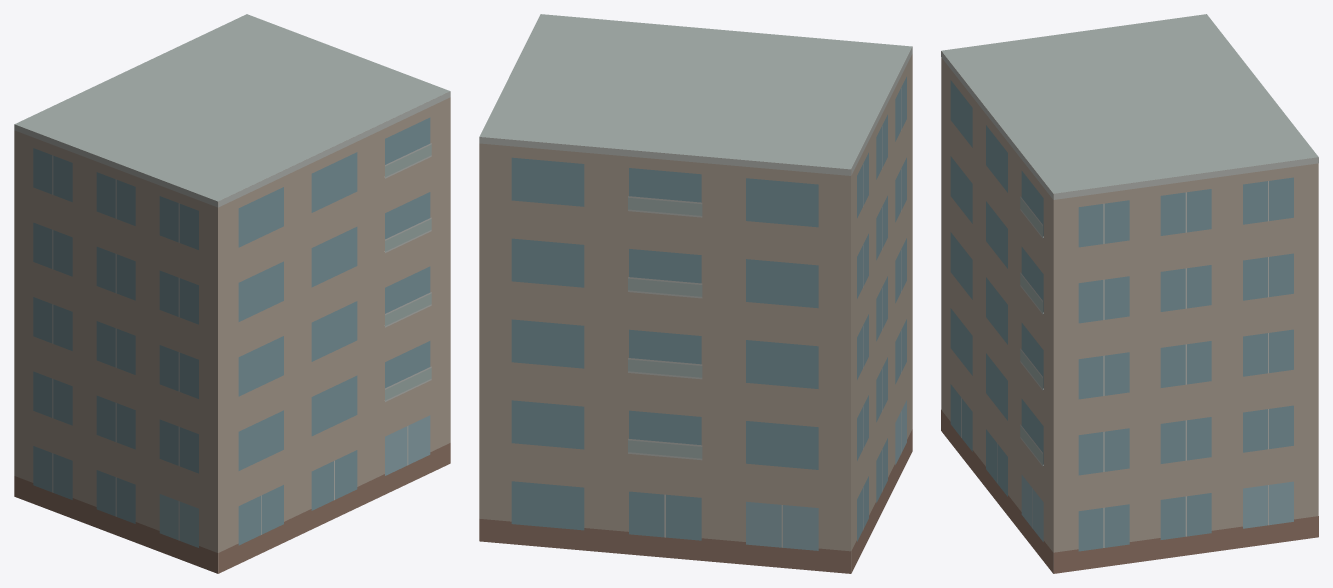
Rendered from survey-upis-32886771.glb.
3 views of the same model, side by side, from view 1: azimuth 30°, elevation 25°; view 2: azimuth 150°, elevation 25°; view 3: azimuth 270°, elevation 25° (orthographic). The views are drawn at different scales.
Visible parts, largest first — view 1: survey-upis-32886771.tmp; view 2: survey-upis-32886771.tmp; view 3: survey-upis-32886771.tmp.
Part boxes in pixels (x1,y1,x2,y2): survey-upis-32886771.tmp: [14, 14, 450, 573]; survey-upis-32886771.tmp: [479, 14, 912, 573]; survey-upis-32886771.tmp: [941, 14, 1318, 573].
Size of the model in its own units: 15.23 by 15 by 13.52.
